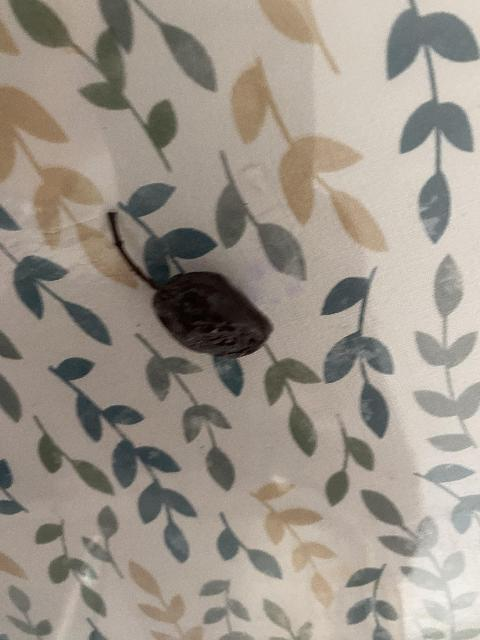Organik: (105, 203, 273, 360)
